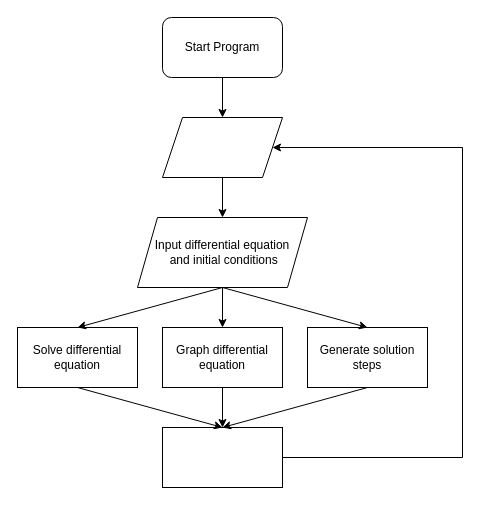
This 488x505 diagram has some shape labels left out. The centre of each missing label's shape, as x and y in pixels:
Display each piece of information: [222,457]
Select type of differential equation: [222,147]
